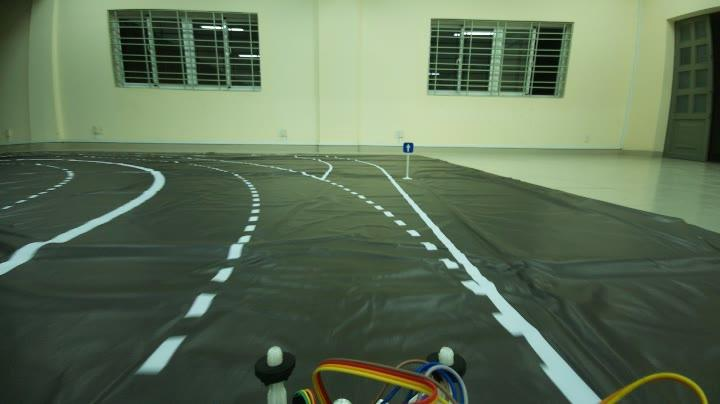onewayroad: (402, 142, 416, 154)
